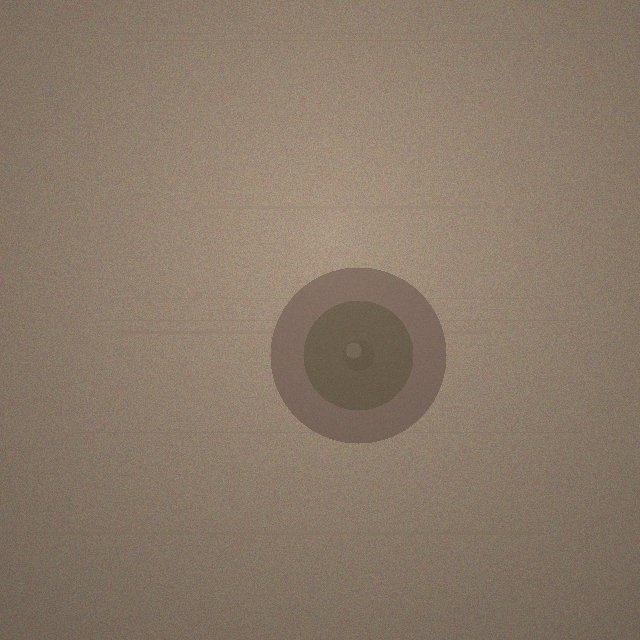good: (270, 267, 446, 443)
